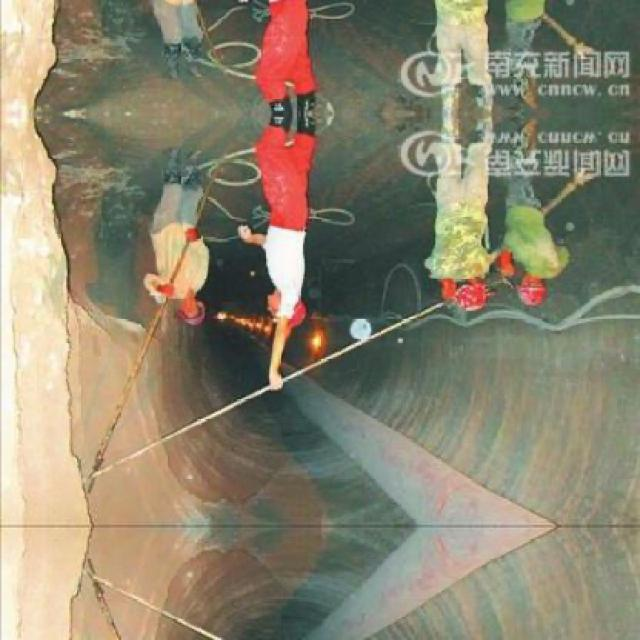con casco: (243, 270, 363, 339), (170, 274, 243, 347), (504, 252, 571, 316), (433, 269, 480, 320)
